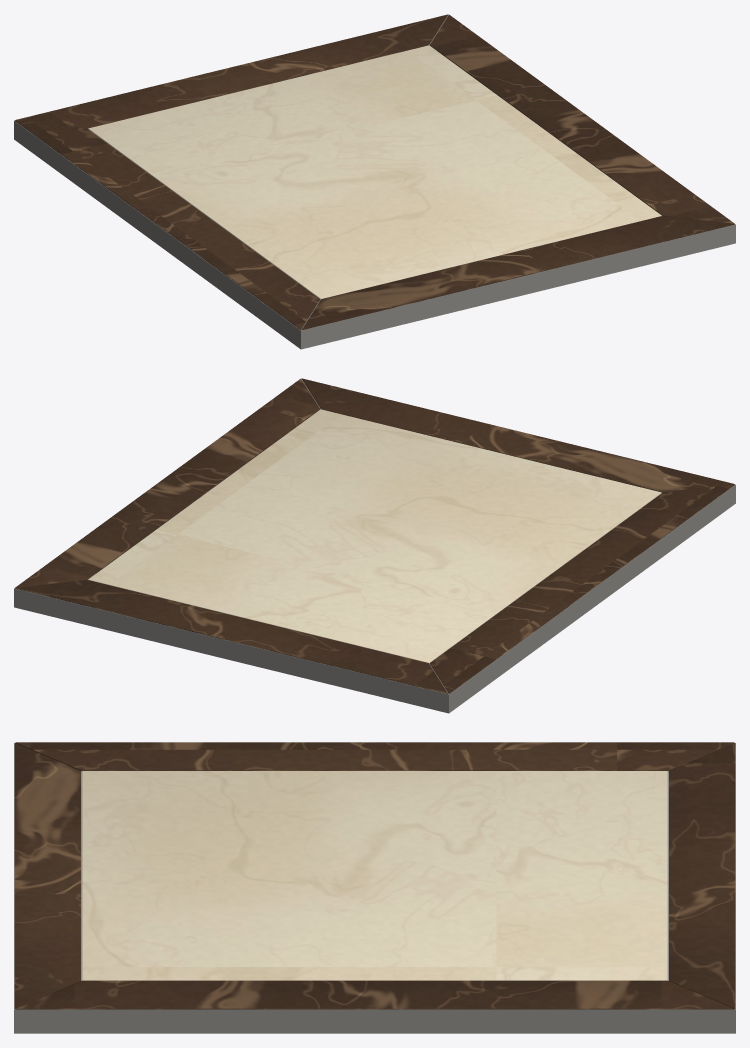
File: floor_KA-DB036.glb
3 views of the same model, one above another, from view 1: azimuth 30°, elevation 25°; view 2: azimuth 150°, elevation 25°; view 3: azimuth 270°, elevation 25° (orthographic). The views are drawn at different scales.
Parts seen in each view (by area): view 1: Floor; view 2: Floor; view 3: Floor.
Part boxes in pixels (box(x1,y1,x2,y2)): Floor: box(14, 14, 735, 349); Floor: box(14, 378, 735, 713); Floor: box(14, 742, 735, 1033).
Size of the model in its own units: 1.4 by 0.06 by 1.6.
Materials: 3 (2 with a texture image).
